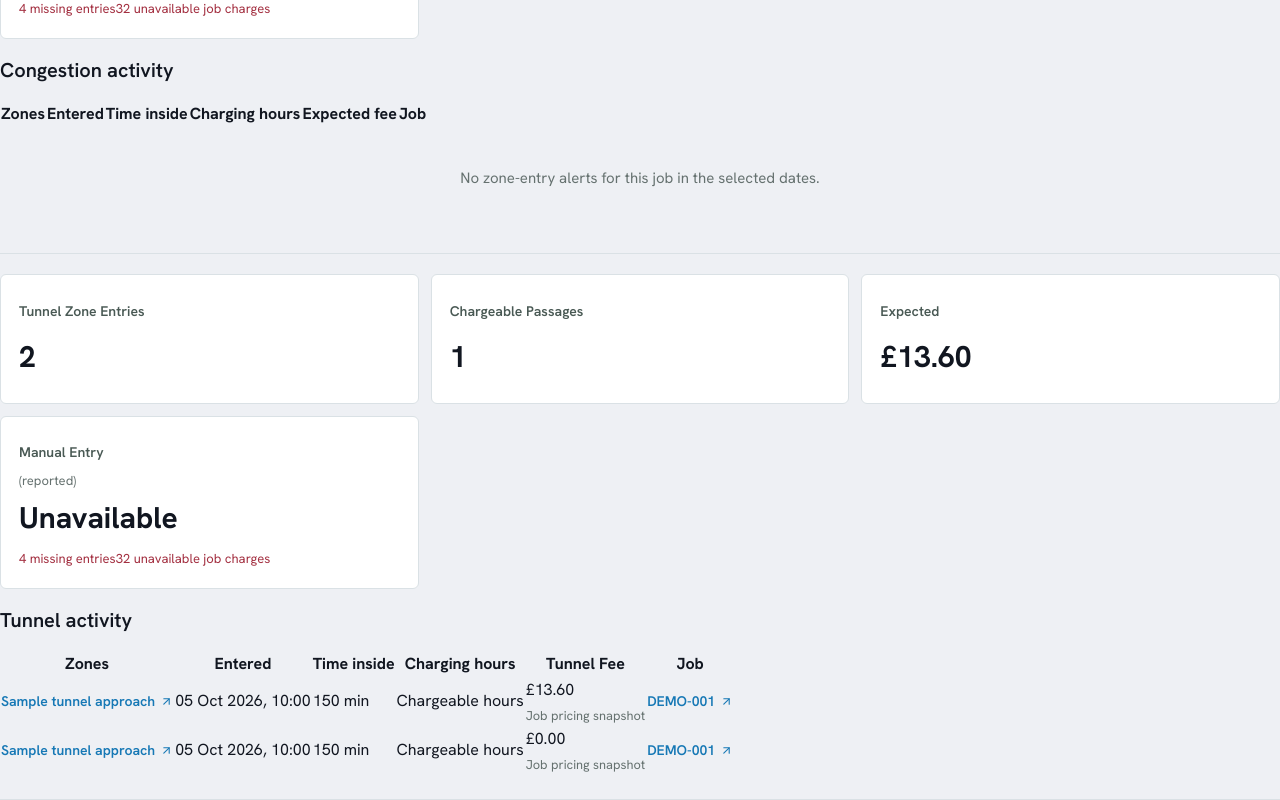
Test: Complete job-level GPSLive activity › uses all embedded job alerts rather than the paginated range list and retains detailed alerts
The width and height of the screenshot is (1280, 800).
(page scrolled)
Click the 1st button "Sample tunnel approach". click: (87, 701)
box: [1,683,173,719]
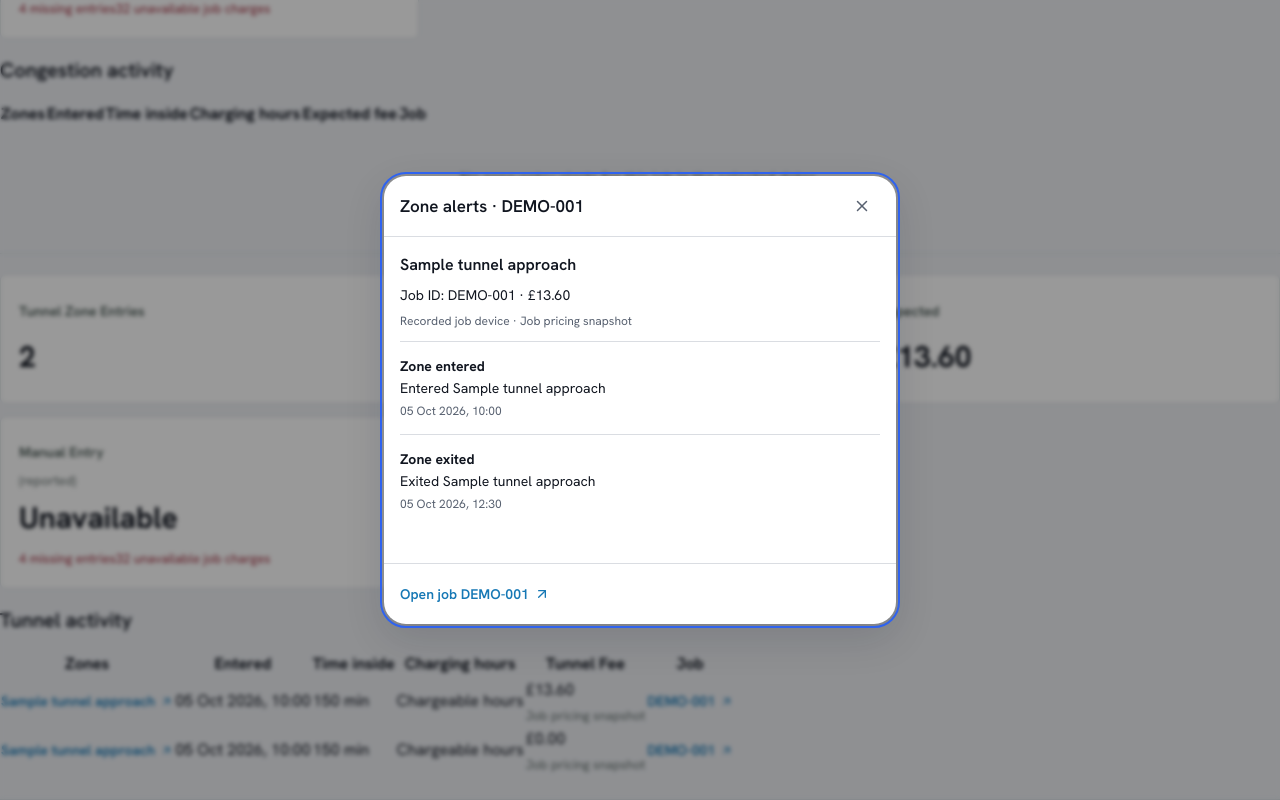
Check: the text "Zone entered" is shown, box [400,357,485,375]
